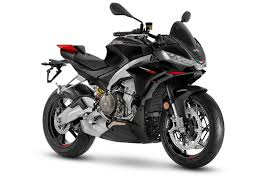motorcycle: (36, 1, 225, 169)
